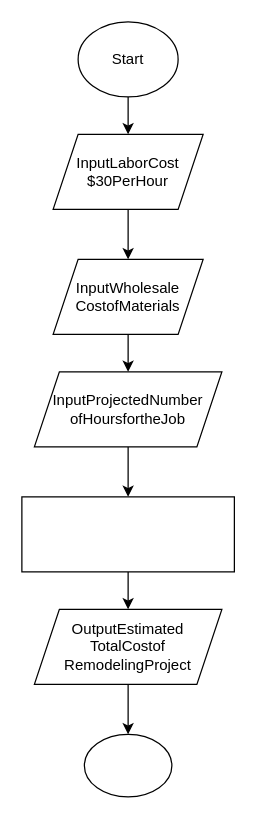
Some shapes in this 256 by 819 pixel diagram are drawn without their labels. The shapes that lost their labels are listed below. From the top down, each one's box as (x1, y1, x2, y2) in pixels, then its label:
(21, 496, 234, 572): TotalCostofJob=$30.00 * NumberofHours + 120% * WholesalePriceofMaterials
(83, 733, 172, 797): Stop
